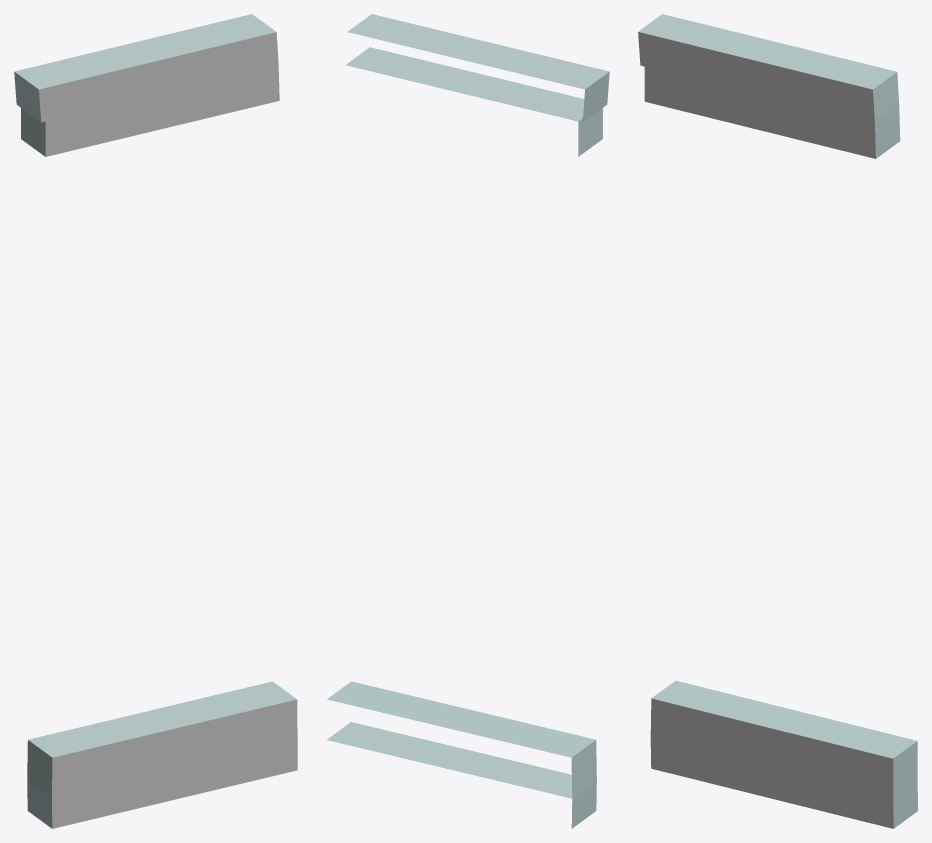
The picture shows the model from 3 angles, left to right: view 1: azimuth 30°, elevation 25°; view 2: azimuth 150°, elevation 25°; view 3: azimuth 330°, elevation 25°; orthographic projection.
Parts seen in each view (by area): view 1: 0_2_1_0_1_1_2_1_3; view 2: 0_2_1_0_1_1_2_1_3; view 3: 0_2_1_0_1_1_2_1_3.
Boxes of the visible parts, <box> form: 0_2_1_0_1_1_2_1_3: <box>14,14,297,828</box>; 0_2_1_0_1_1_2_1_3: <box>327,14,609,828</box>; 0_2_1_0_1_1_2_1_3: <box>638,14,917,828</box>.
Bounding box in the file's own units: 18.19 × 49.96 × 3.01.
